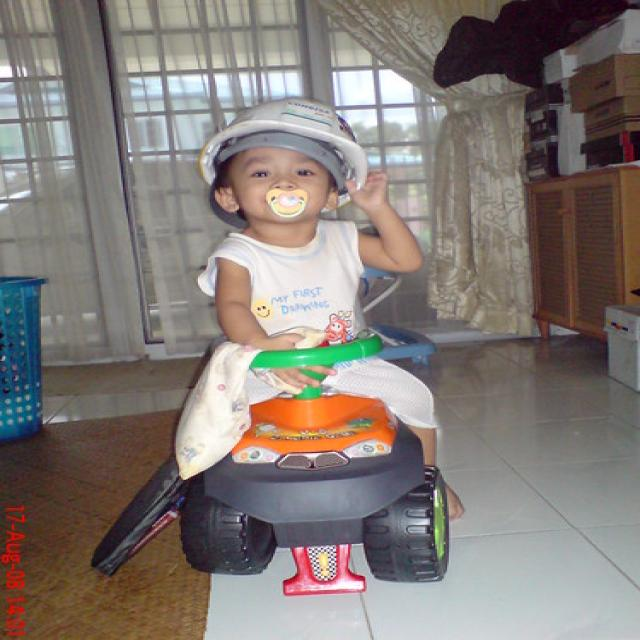Safety-Helmet: (170, 82, 386, 194)
